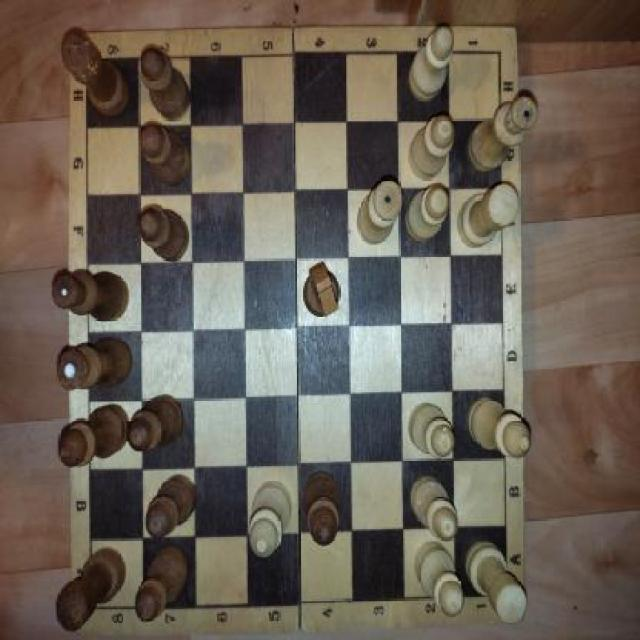chess-table-corners: (481, 559, 524, 627), (475, 24, 520, 88), (70, 30, 112, 96), (72, 578, 116, 632)
